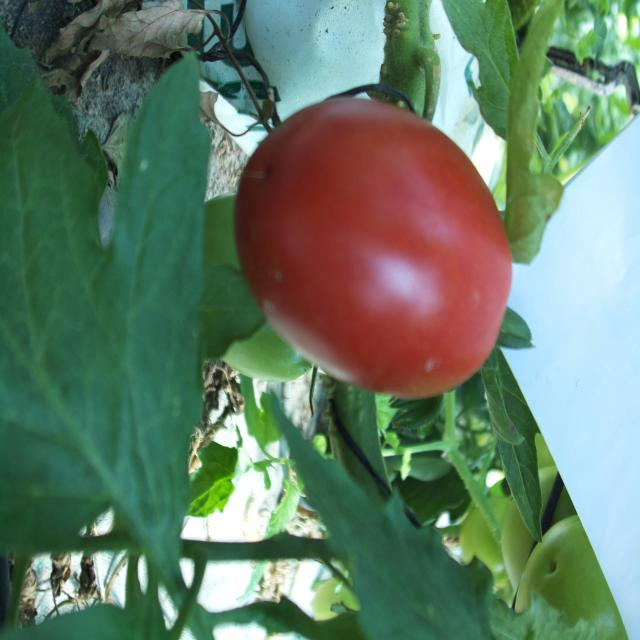kirmizi: (222, 74, 518, 412)
